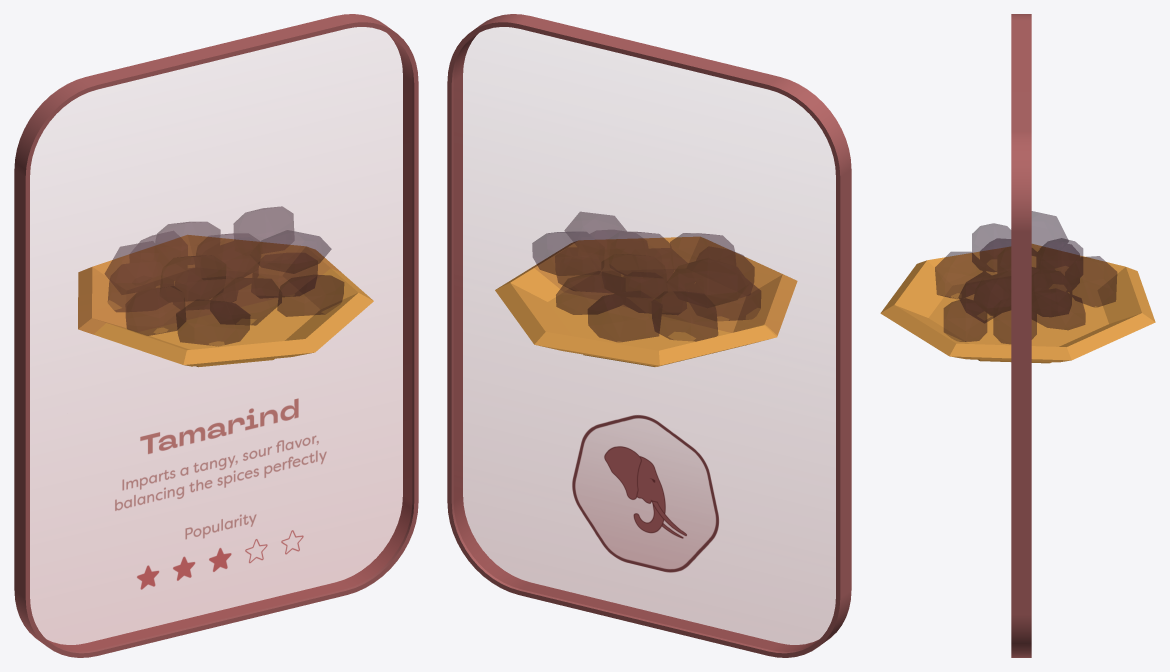
Rendered from tamarind.glb.
3 renders of one model, left to right at view 1: azimuth 30°, elevation 25°; view 2: azimuth 150°, elevation 25°; view 3: azimuth 270°, elevation 25°, orthographic. The views are drawn at different scales.
Parts seen in each view (by area): view 1: Bhai_Card.tex.015, Raisin_242.002, Bhai_Card.out.015; view 2: Bhai_Card.tex.015, Raisin_242.002, Bhai_Card.out.015; view 3: Raisin_242.002, Bhai_Card.out.015.
Boxes of the visible parts, left/top/right/bottom form: Bhai_Card.tex.015: left=30, top=154, right=411, bottom=651; Raisin_242.002: left=78, top=206, right=373, bottom=367; Bhai_Card.out.015: left=14, top=14, right=418, bottom=657; Bhai_Card.tex.015: left=454, top=153, right=835, bottom=651; Raisin_242.002: left=495, top=212, right=797, bottom=366; Bhai_Card.out.015: left=447, top=14, right=851, bottom=657; Raisin_242.002: left=880, top=211, right=1155, bottom=363; Bhai_Card.out.015: left=1011, top=14, right=1031, bottom=657.
Bounding box in the file's own units: 1.81 × 2.51 × 1.21.
Materials: 5 (2 with a texture image).
